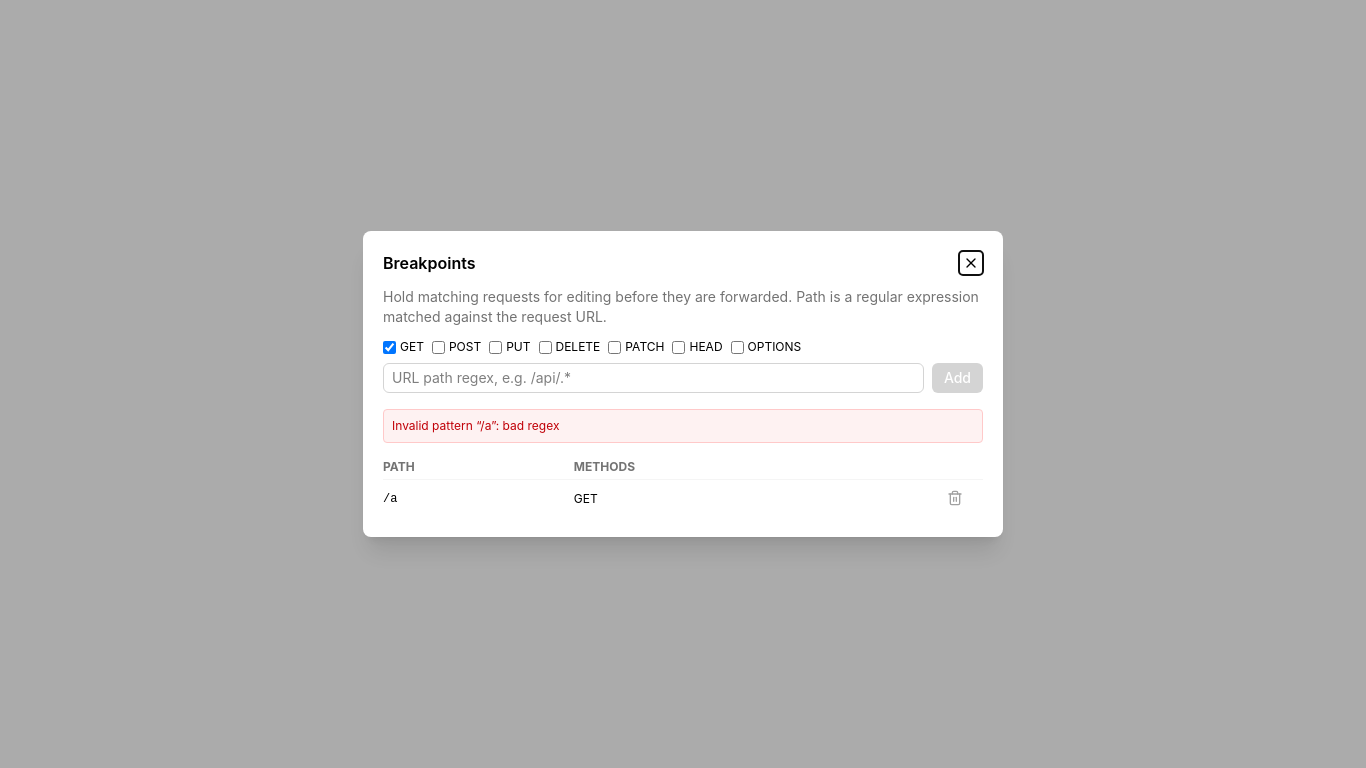
it: BreakpointsDialog › deletes a rule and shows compile errors
Expected: the message shows "bad regex", [503,418,560,433]
Click the button named "Delete breakpoint /a".
click(955, 498)  # box [943,486,967,510]
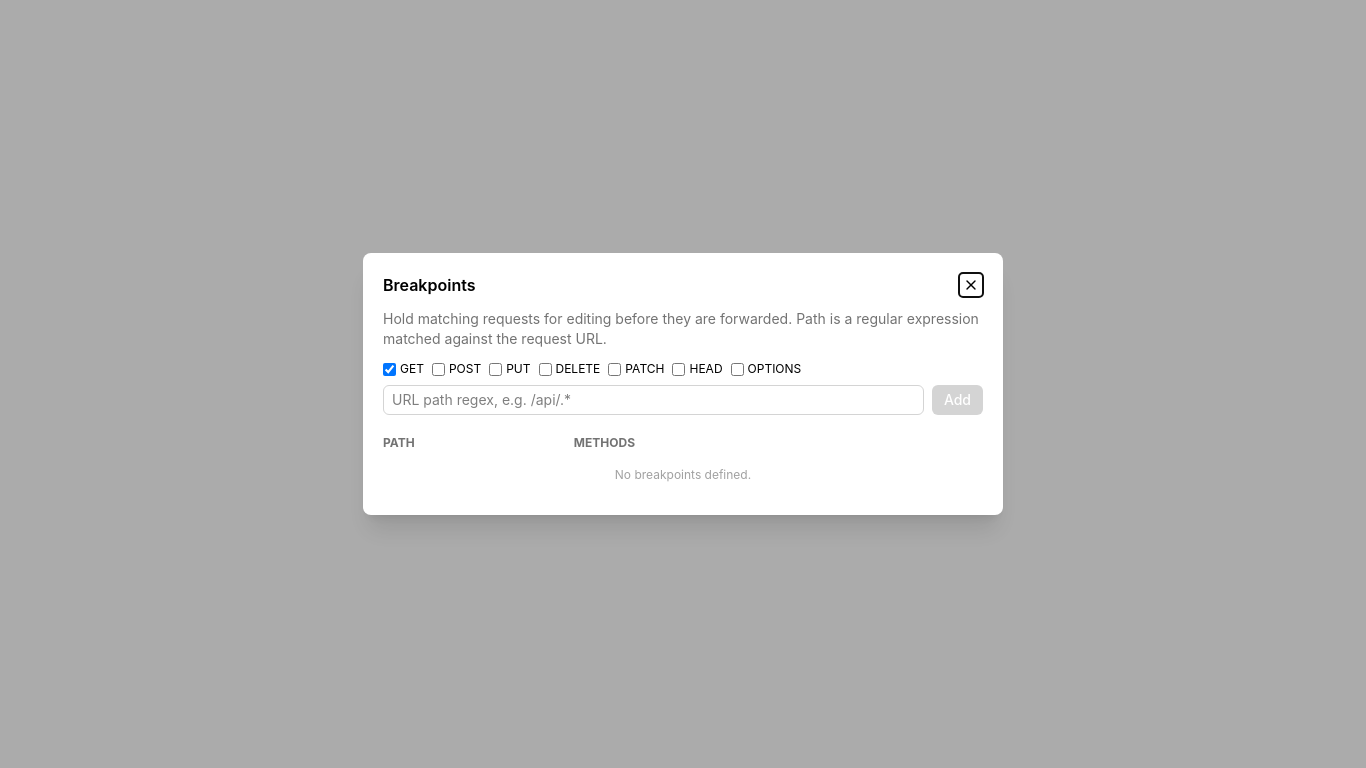
Result: the text "No breakpoints defined." is shown at [615,467,751,482]
Result: the message "Invalid pattern “/a”: bad regex" is gone
